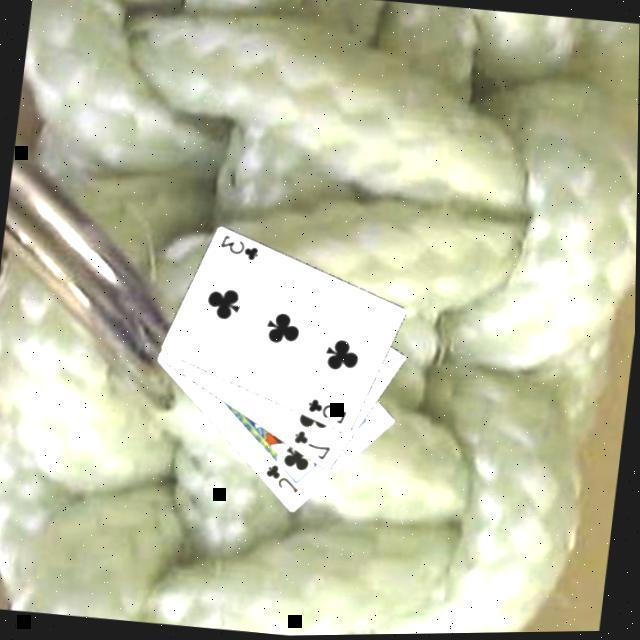3C: (305, 396, 354, 430), (217, 232, 266, 266)
7C: (292, 428, 338, 467)
JC: (264, 462, 308, 498)
